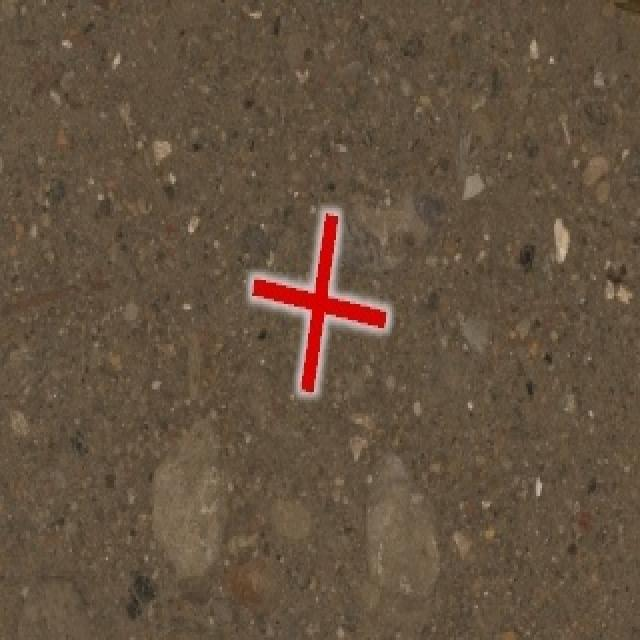x_marker: (251, 212, 387, 391)
